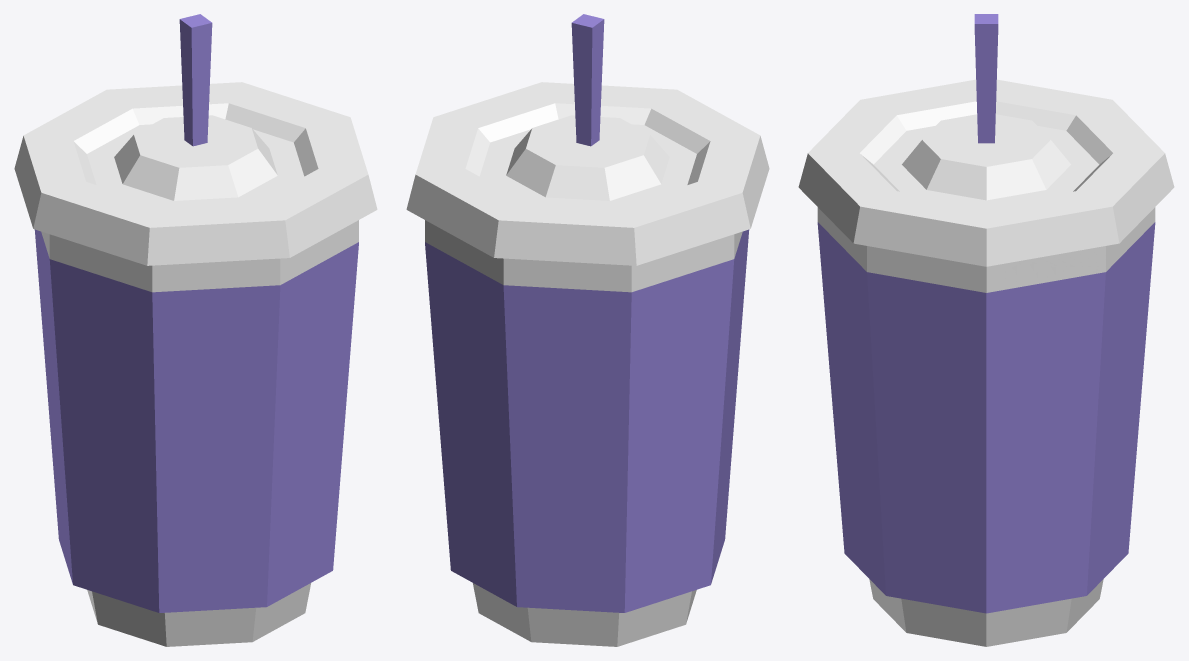
The model's file is soda.obj.
3 views of the same model, side by side, from view 1: azimuth 30°, elevation 25°; view 2: azimuth 150°, elevation 25°; view 3: azimuth 270°, elevation 25° (orthographic).
Parts seen in each view (by area): view 1: soda; view 2: soda; view 3: soda.
Boxes of the visible parts, x1,y1,x2,y2 form: soda: (14, 14, 377, 646); soda: (406, 14, 769, 646); soda: (798, 14, 1174, 646).
Size of the model in its own units: 0.2541 by 0.4324 by 0.2541.
